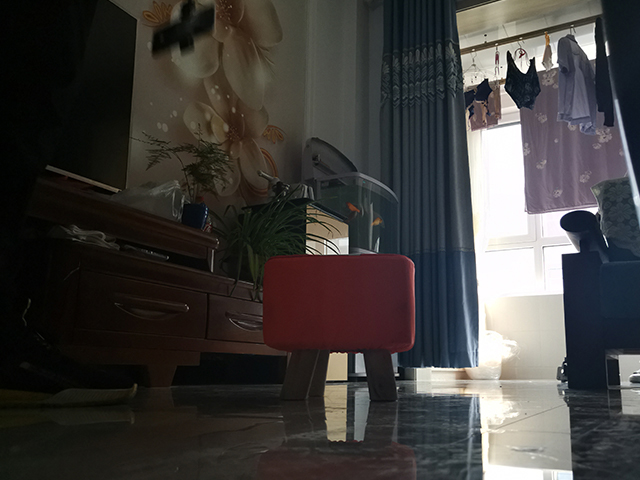cabinet: (25, 176, 292, 389)
curtain: (378, 1, 481, 370)
sofa: (557, 175, 640, 393)
stool: (261, 252, 417, 404)
